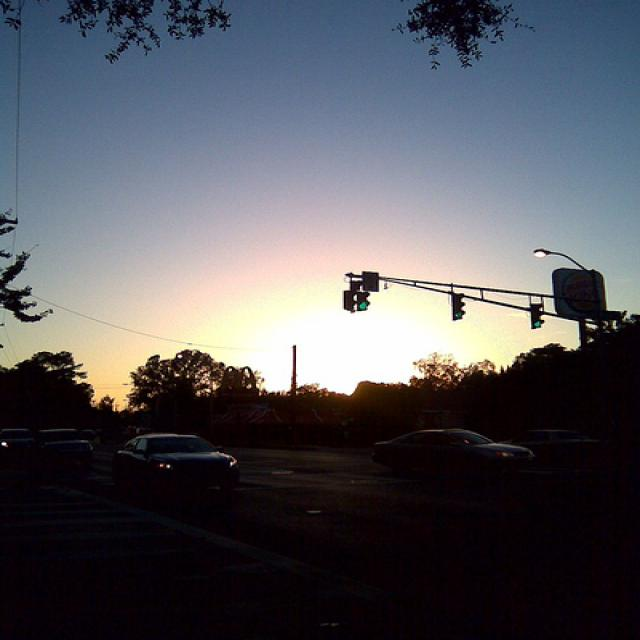Car: (371, 424, 540, 483), (115, 430, 243, 500)
